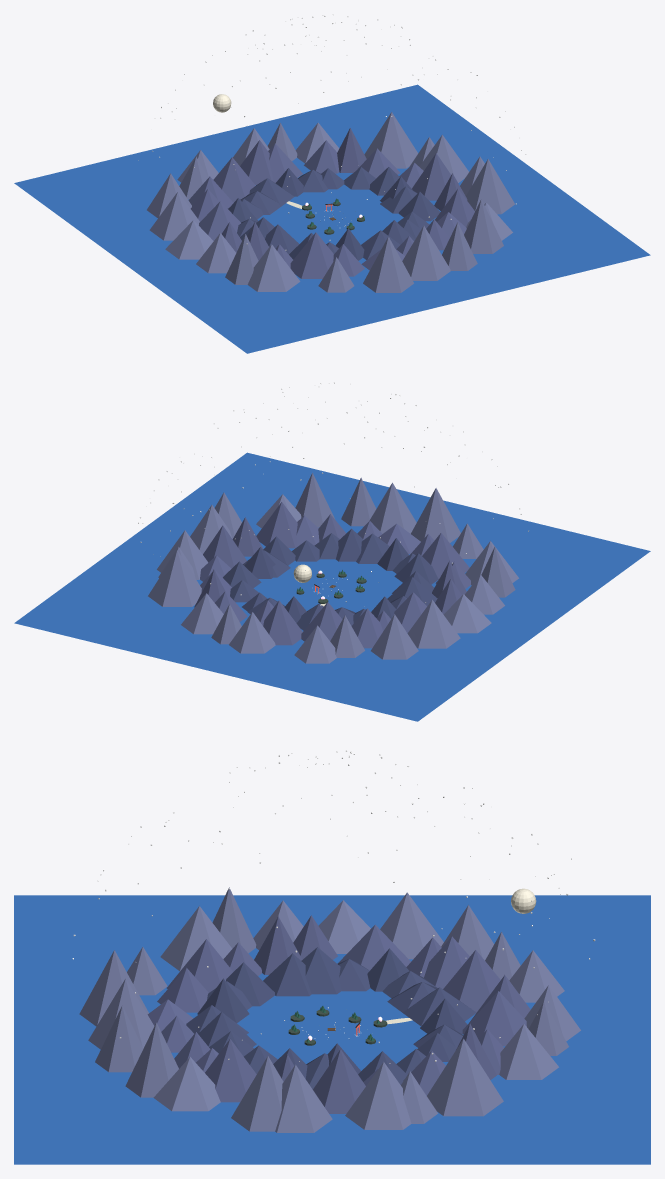
File: LakeScene_Night.fbx
3 views of the same model, one above another, from view 1: azimuth 30°, elevation 25°; view 2: azimuth 150°, elevation 25°; view 3: azimuth 270°, elevation 25° (orthographic). The views are drawn at different scales.
Parts seen in each view (by area): view 1: Mesh_Water, Mesh_Mountain3, Mesh_Mountain2, Mesh_Mountain1; view 2: Mesh_Water, Mesh_Mountain3, Mesh_Mountain2, Mesh_Mountain1; view 3: Mesh_Water, Mesh_Mountain3, Mesh_Mountain2, Mesh_Mountain1.
Boxes of the visible parts, x1,y1,x2,y2 form: Mesh_Water: (14,84,650,353); Mesh_Mountain3: (147,112,514,292); Mesh_Mountain2: (188,128,474,278); Mesh_Mountain1: (228,167,440,260); Mesh_Water: (14,452,650,721); Mesh_Mountain3: (148,473,518,663); Mesh_Mountain2: (194,502,470,648); Mesh_Mountain1: (223,528,438,630); Mesh_Water: (14,895,650,1164); Mesh_Mountain3: (79,887,580,1132); Mesh_Mountain2: (147,915,530,1113); Mesh_Mountain1: (186,947,476,1089).
Bounding box in the file's own units: 400 × 176 × 400.
